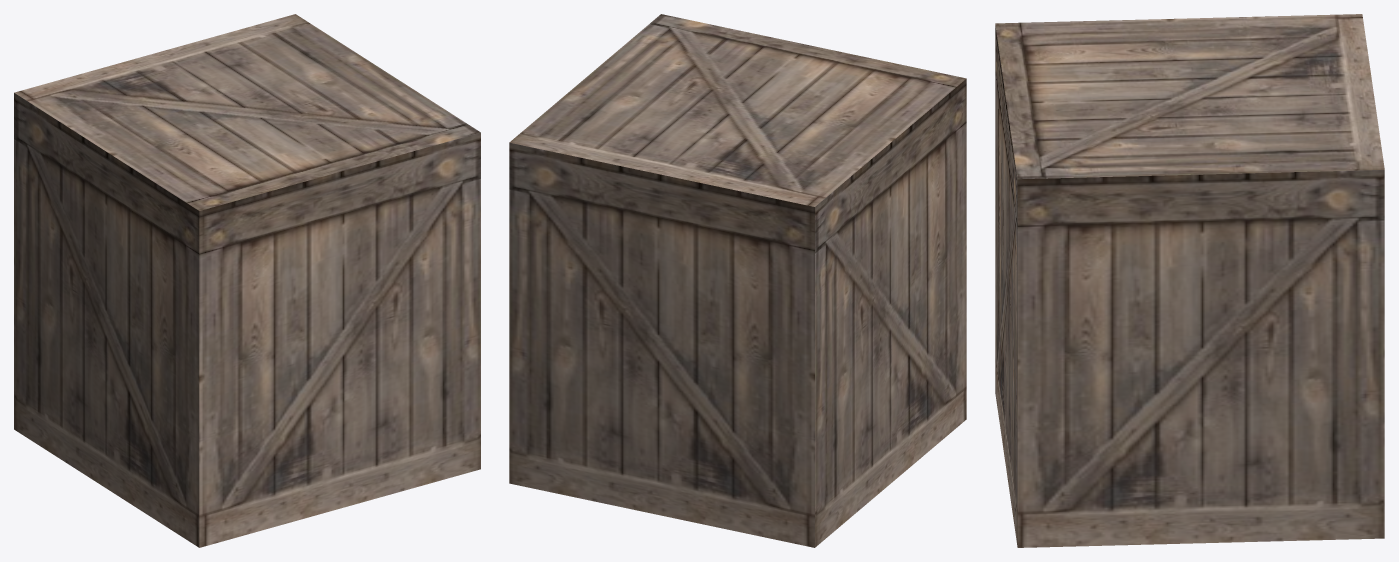
3 renders of one model, left to right at view 1: azimuth 30°, elevation 25°; view 2: azimuth 150°, elevation 25°; view 3: azimuth 270°, elevation 25°, orthographic. The views are drawn at different scales.
Visible parts, largest first — view 1: C007_Boxs_08_0; view 2: C007_Boxs_08_0; view 3: C007_Boxs_08_0.
Part boxes in pixels (<box>): C007_Boxs_08_0: <box>14,14,480,547</box>; C007_Boxs_08_0: <box>509,14,966,547</box>; C007_Boxs_08_0: <box>995,14,1384,547</box>.
Bounding box in the file's own units: 1.75 × 1.82 × 1.75.
Materials: 1 (1 with a texture image).
